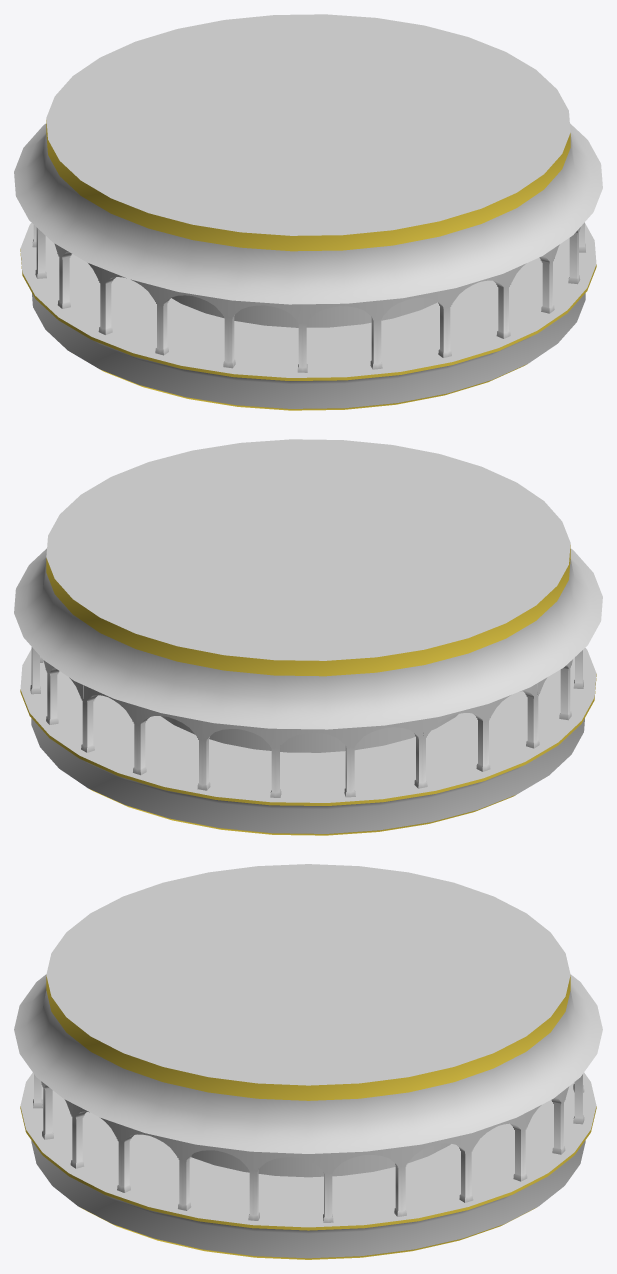
File: arc_top_01.fbx
3 views of the same model, one above another, from view 1: azimuth 30°, elevation 25°; view 2: azimuth 150°, elevation 25°; view 3: azimuth 270°, elevation 25° (orthographic).
Parts seen in each view (by area): view 1: top arc; view 2: top arc; view 3: top arc.
Part boxes in pixels (x1=…): top arc: x1=14, y1=14, x2=602, y2=410; top arc: x1=14, y1=439, x2=602, y2=835; top arc: x1=14, y1=864, x2=602, y2=1259.
Size of the model in its own units: 221 by 70.38 by 221.
